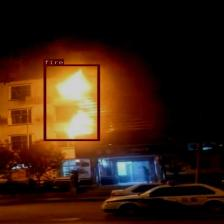fire: (43, 64, 100, 141)
